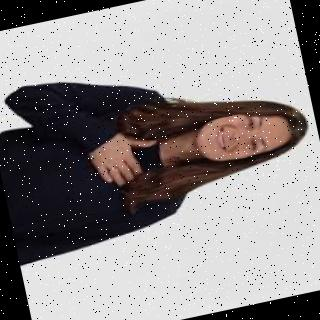Please: (82, 120, 164, 195)
